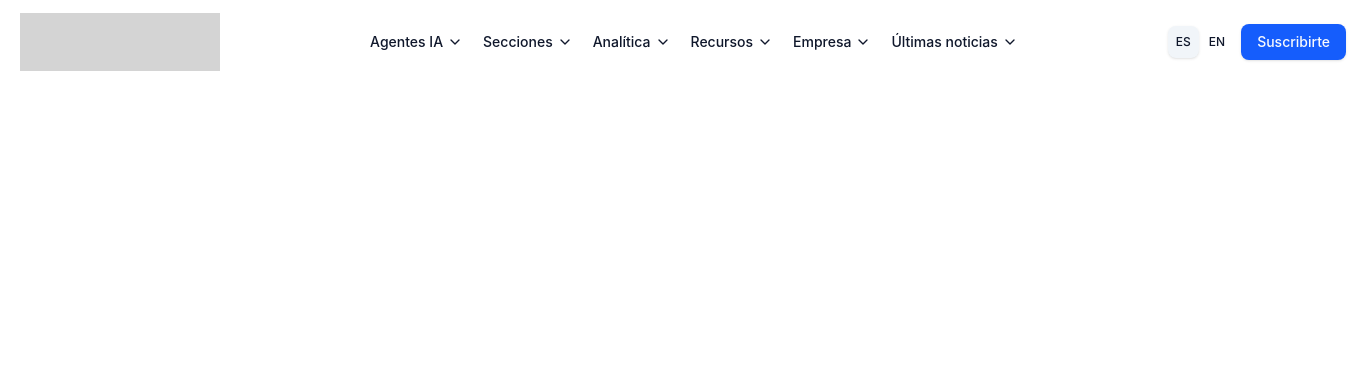
Header dropdowns › opens and closes Analítica
Step 1. Click the button "Analítica" → point(632, 42), box 585,24 -> 678,60
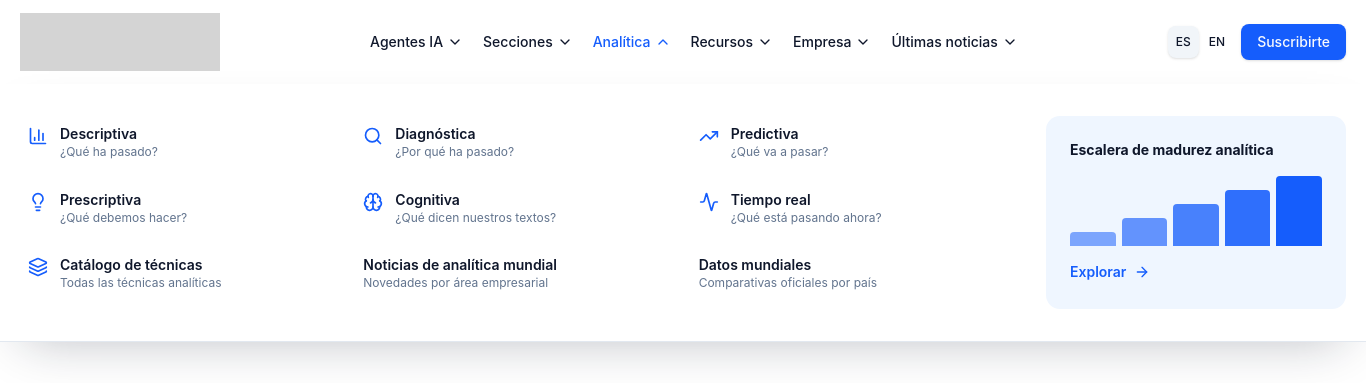
Result: the button "Analítica" is expanded at 585,24 -> 678,60
Result: the link "Descriptiva ¿Qué ha pasado?" is shown at 28,125 -> 158,159
Step 2. Press Escape
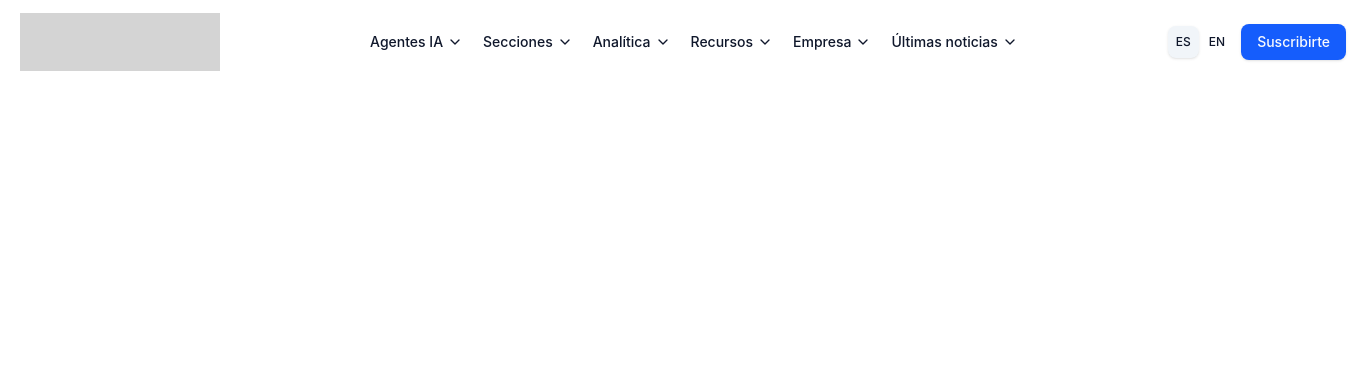
Result: the button "Analítica" is collapsed at 585,24 -> 678,60
